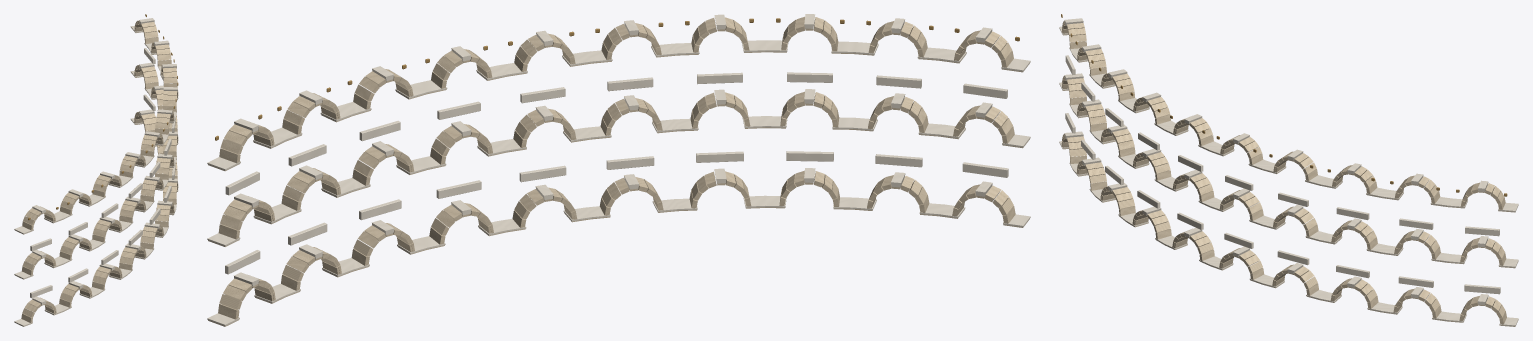
File: COL_ExteriorArcade_Q1.obj
The picture shows the model from 3 angles, left to right: view 1: azimuth 30°, elevation 25°; view 2: azimuth 150°, elevation 25°; view 3: azimuth 270°, elevation 25°; orthographic projection. The views are drawn at different scales.
Visible parts, largest first — view 1: COL_ExteriorArcade_Q1; view 2: COL_ExteriorArcade_Q1; view 3: COL_ExteriorArcade_Q1.
Boxes of the visible parts, box(x1,y1,x2,y2) form: COL_ExteriorArcade_Q1: box(14, 14, 178, 326); COL_ExteriorArcade_Q1: box(207, 14, 1030, 326); COL_ExteriorArcade_Q1: box(1059, 14, 1518, 326).
Size of the model in its own units: 110 by 37.63 by 115.
Materials: 3 (3 with a texture image).
